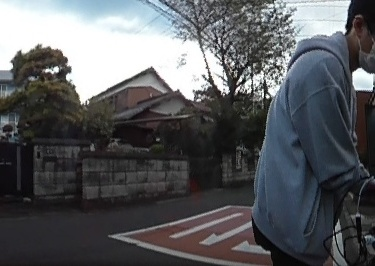person: (253, 0, 375, 266)
